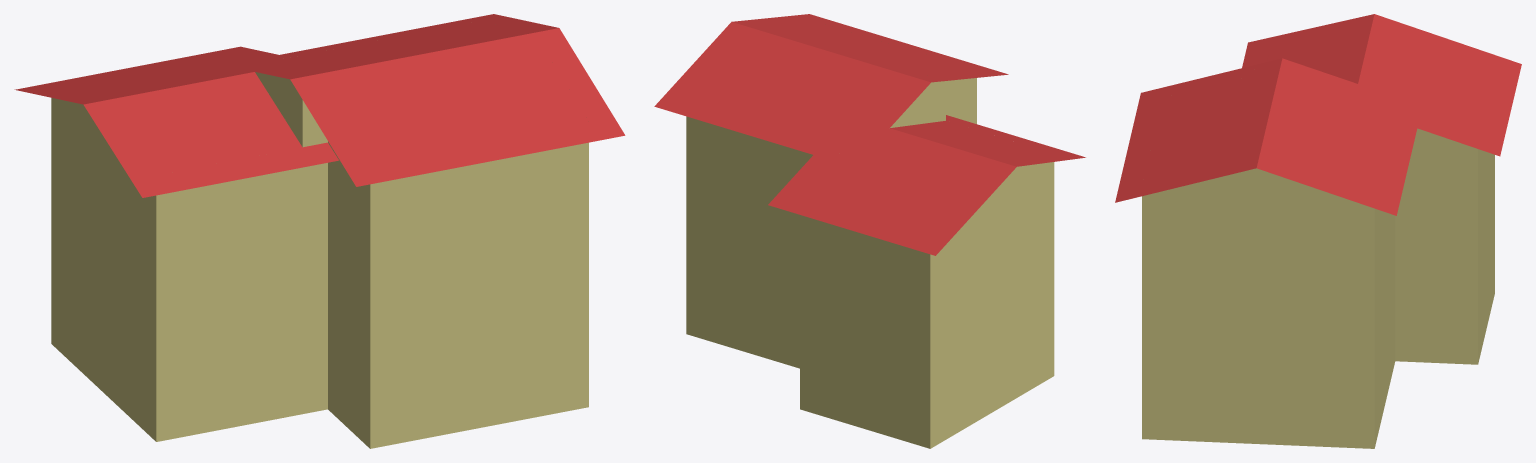
The picture shows the model from 3 angles, left to right: view 1: azimuth 30°, elevation 25°; view 2: azimuth 150°, elevation 25°; view 3: azimuth 270°, elevation 25°; orthographic projection. The views are drawn at different scales.
Parts seen in each view (by area): view 1: group_13, group_5, group_11, group_9, group_3, group_7, group_12, group_4, group_8; view 2: group_9, group_7, group_5, group_8, group_11, group_3, group_12, group_13, group_4; view 3: group_9, group_13, group_7, group_11, group_12, group_3, group_8, group_4.
Boxes of the visible parts, bbox=[...] form: group_13: bbox=[290, 80, 588, 448]; group_5: bbox=[108, 145, 339, 441]; group_11: bbox=[290, 33, 624, 186]; group_9: bbox=[51, 72, 290, 396]; group_3: bbox=[84, 72, 338, 197]; group_7: bbox=[14, 21, 533, 104]; group_12: bbox=[303, 28, 625, 186]; group_4: bbox=[86, 100, 338, 197]; group_8: bbox=[229, 14, 558, 62]; group_9: bbox=[686, 83, 998, 448]; group_7: bbox=[687, 27, 1016, 255]; group_5: bbox=[998, 162, 1054, 408]; group_8: bbox=[654, 22, 888, 241]; group_11: bbox=[750, 21, 976, 82]; group_3: bbox=[890, 121, 1085, 166]; group_12: bbox=[732, 14, 1008, 80]; group_13: bbox=[931, 78, 976, 123]; group_4: bbox=[946, 115, 1085, 165]; group_9: bbox=[1259, 128, 1494, 448]; group_13: bbox=[1142, 168, 1258, 443]; group_7: bbox=[1257, 14, 1521, 197]; group_11: bbox=[1115, 58, 1282, 200]; group_12: bbox=[1115, 65, 1258, 202]; group_3: bbox=[1248, 14, 1374, 83]; group_8: bbox=[1256, 110, 1470, 215]; group_4: bbox=[1242, 14, 1373, 67].
Size of the model in its own units: 13.58 by 12.42 by 9.64.
